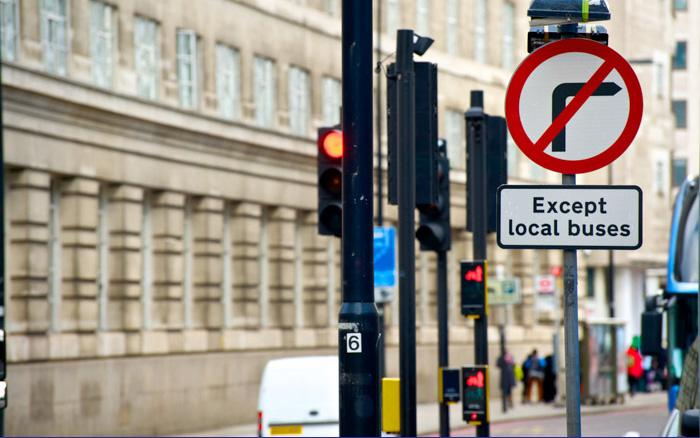no_right_turn: (504, 37, 643, 173)
